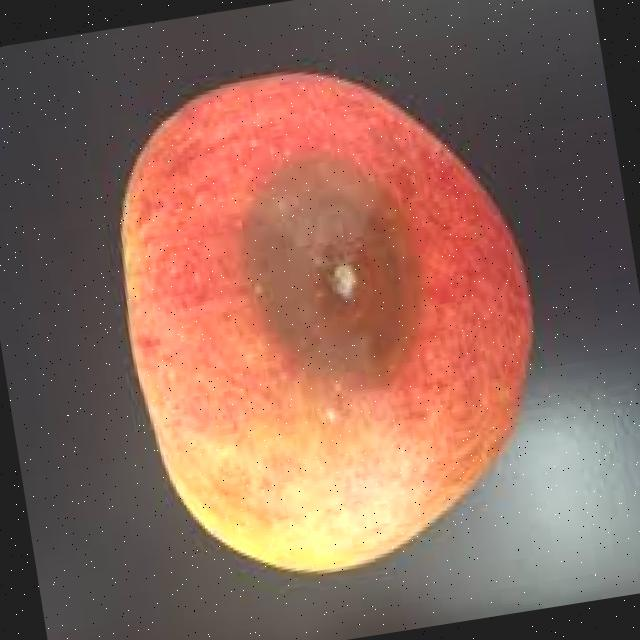overripe: (87, 34, 574, 608)
